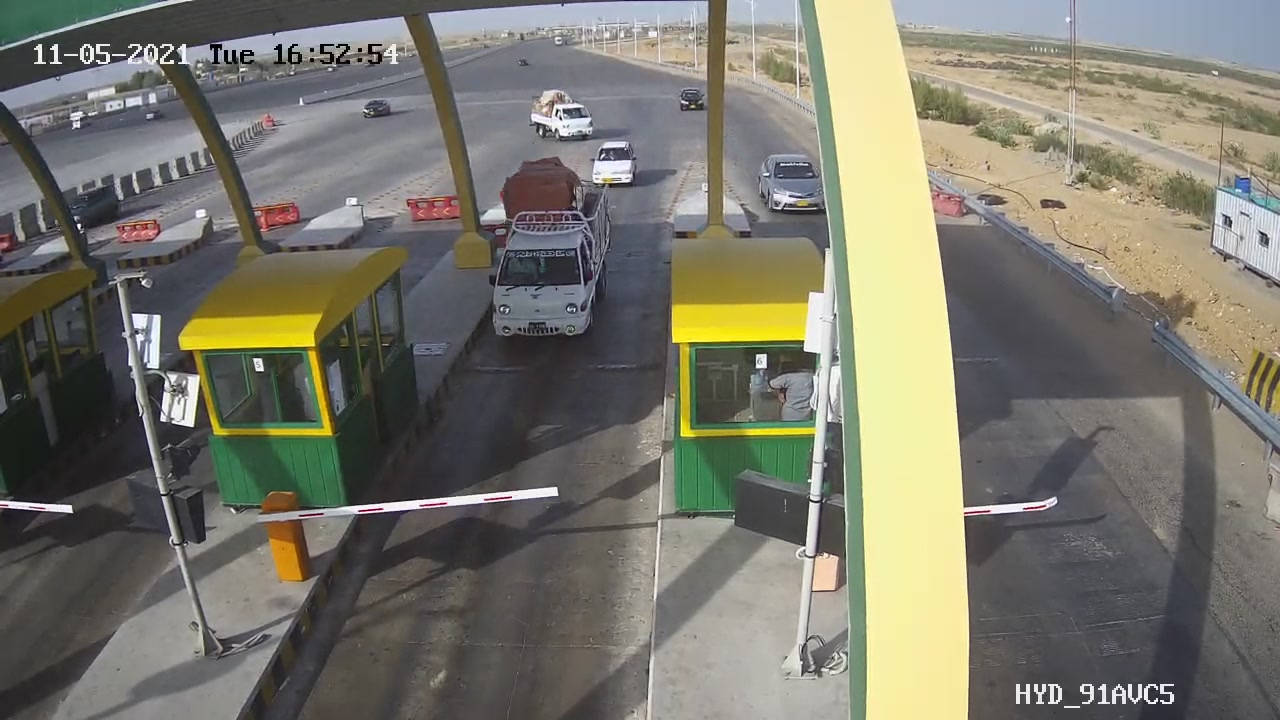F2: (472, 153, 632, 358)
